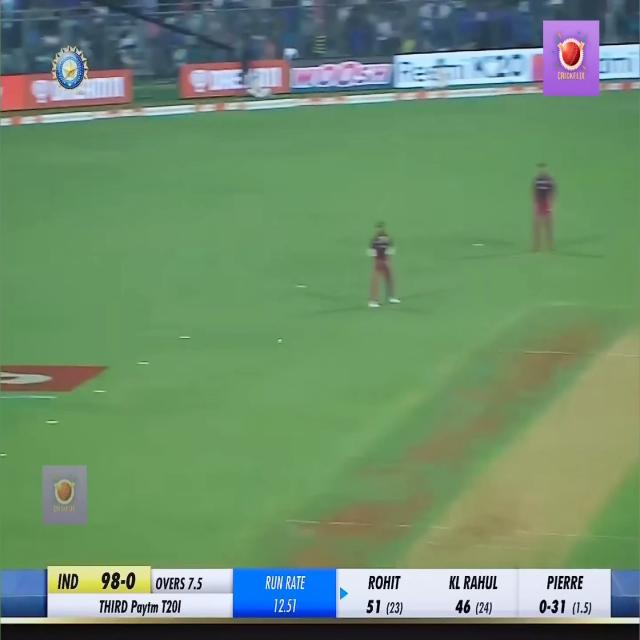fully_visible: (130, 595, 162, 618)
